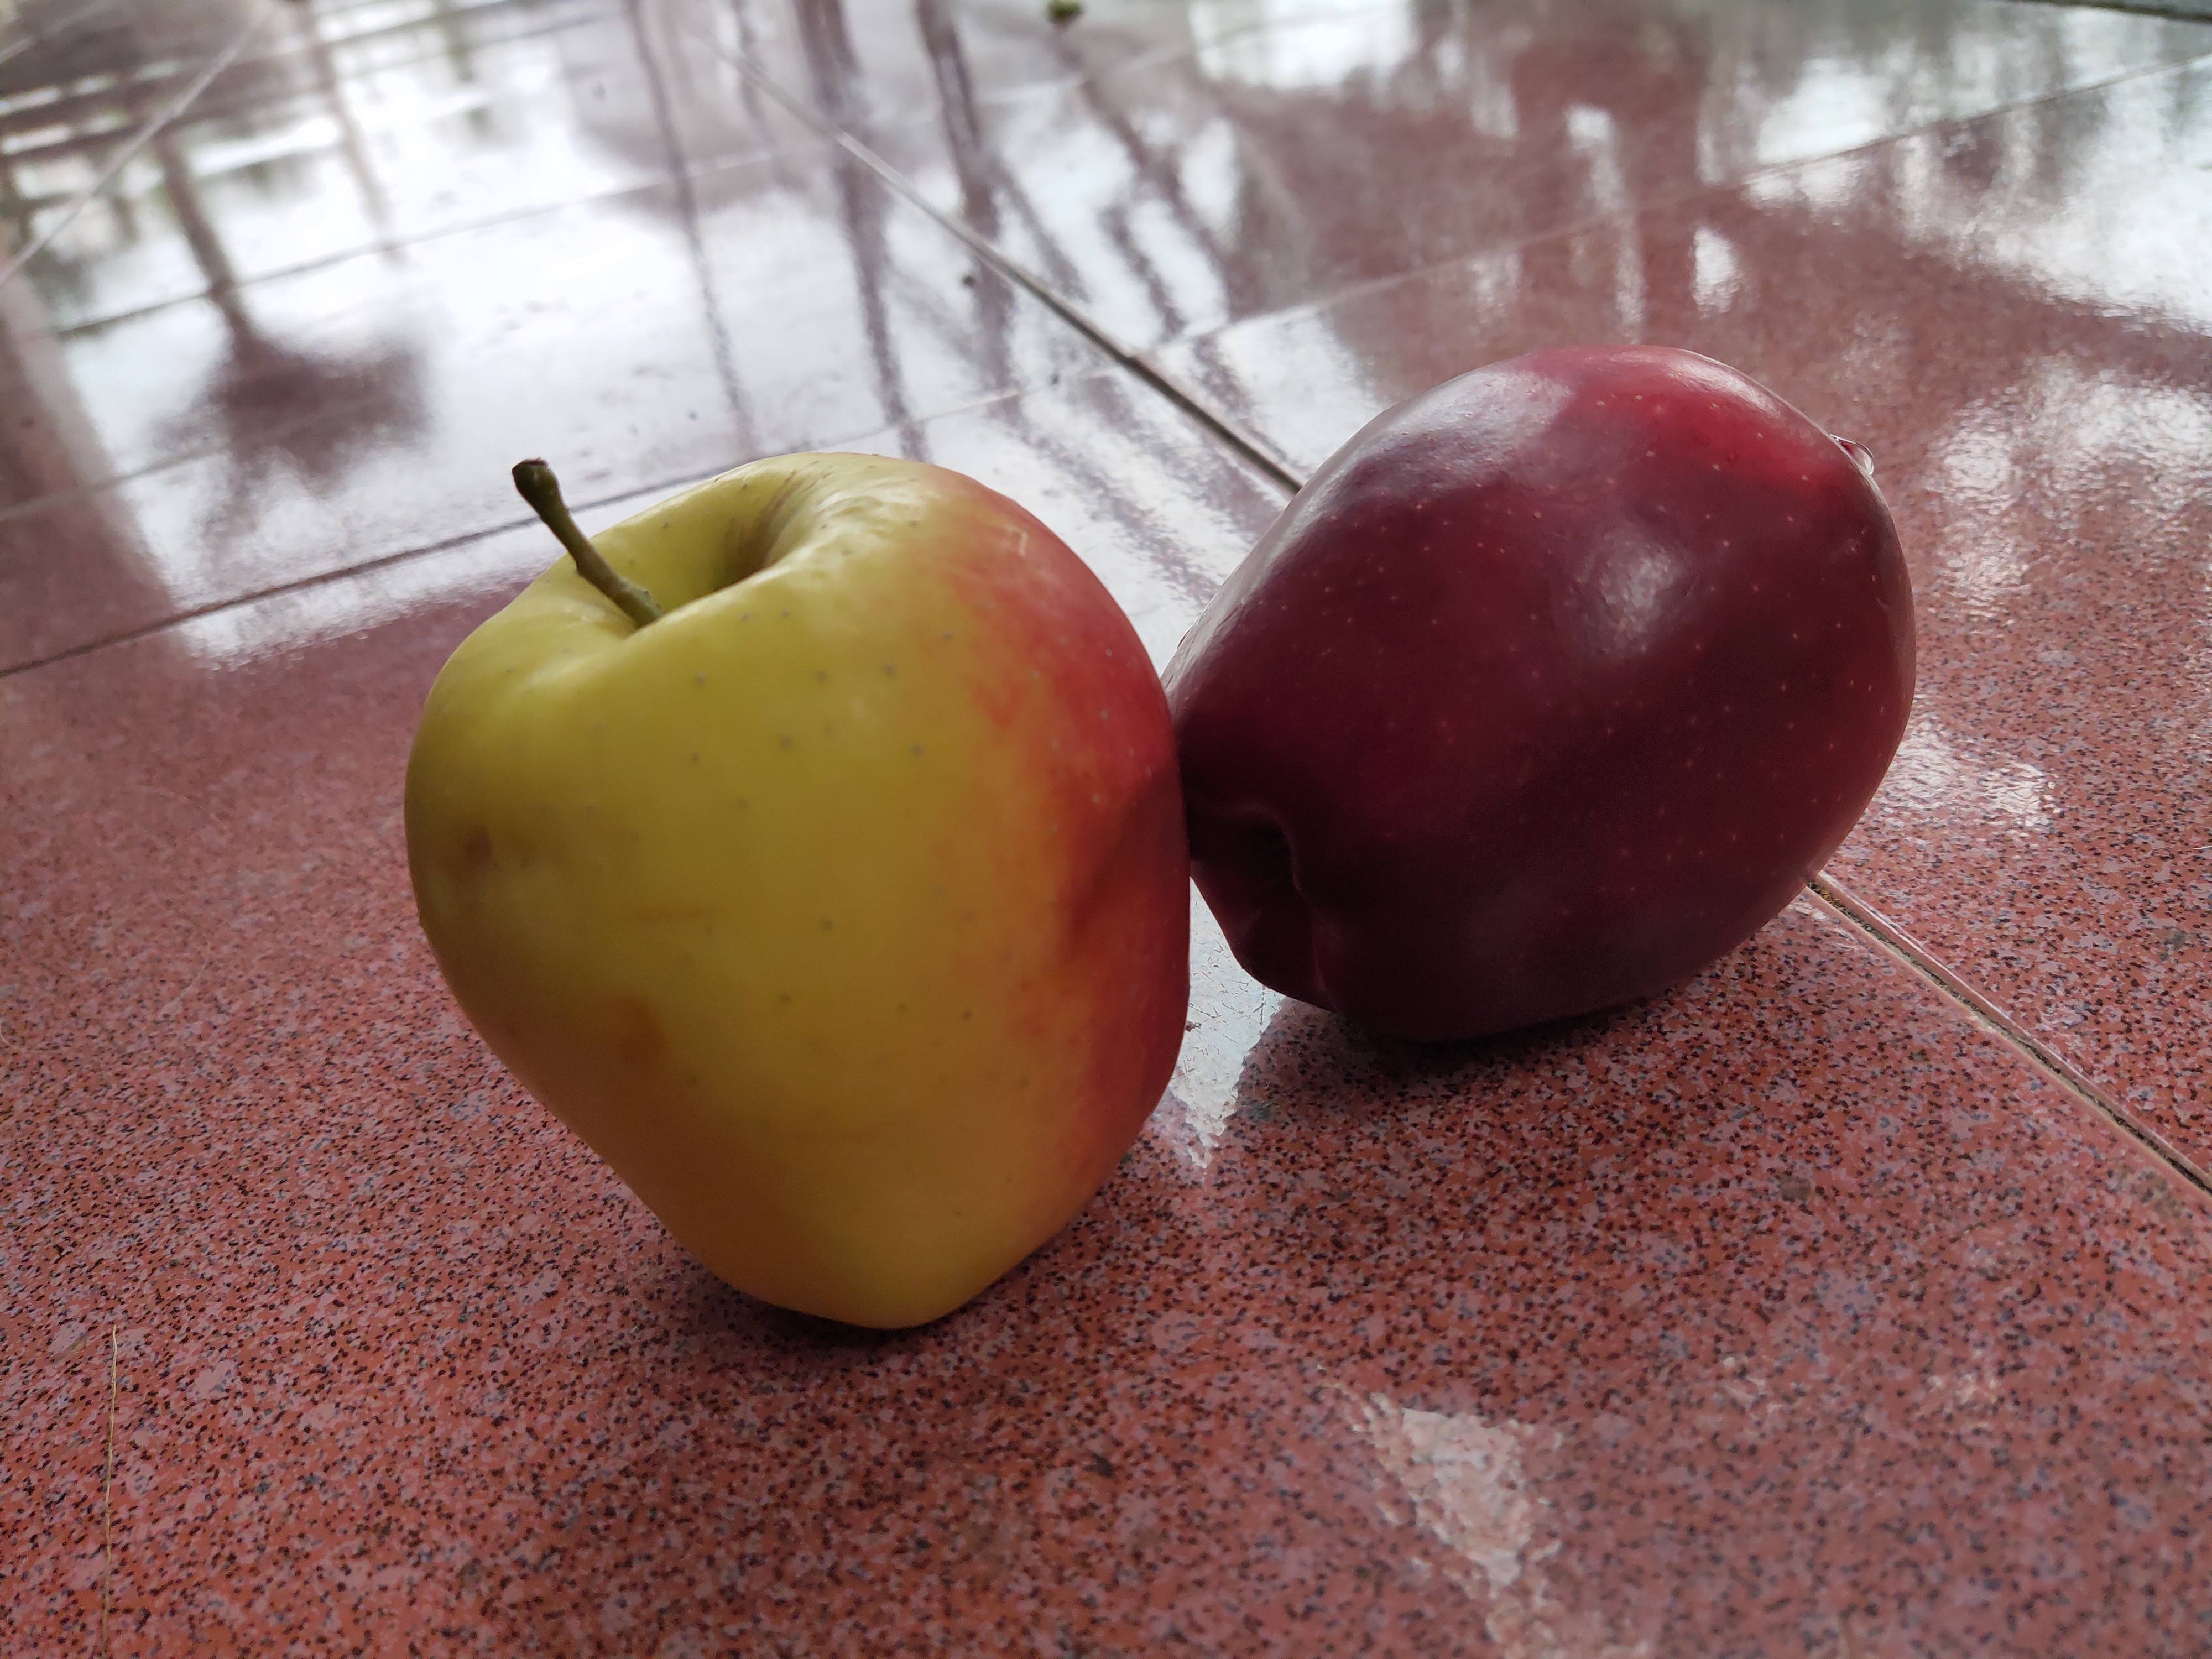apple: (388, 437, 1197, 1349), (1167, 328, 1926, 1039)
